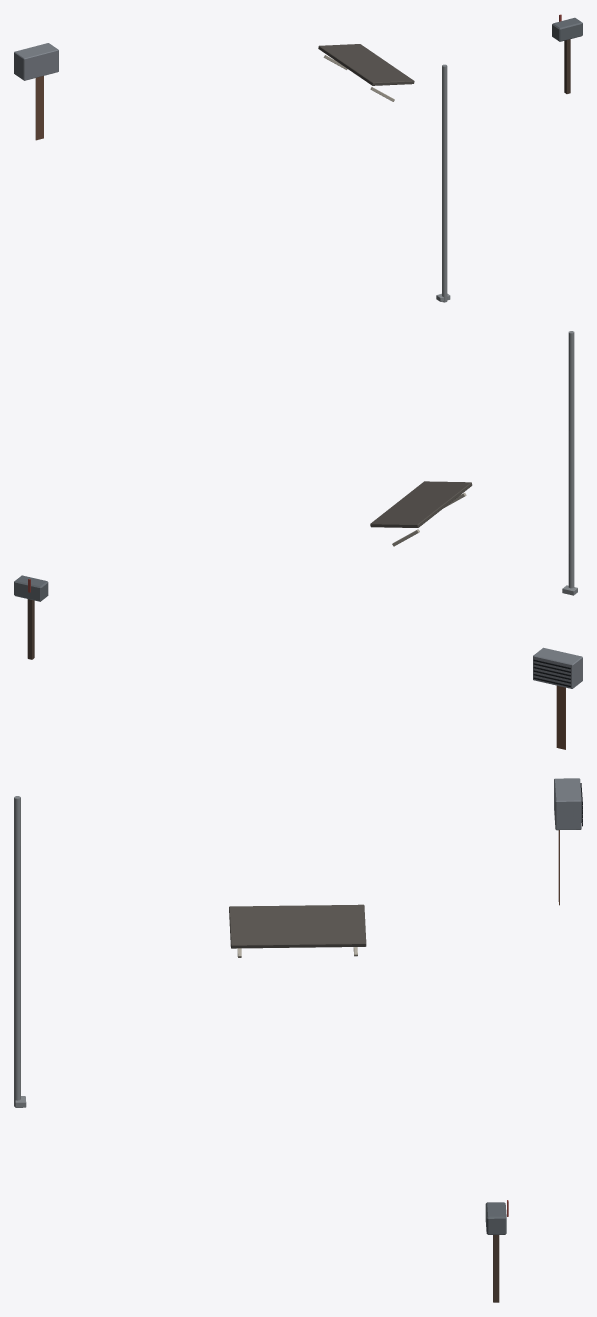
Rendered from house4_bits.glb.
3 renders of one model, top to bottom at view 1: azimuth 30°, elevation 25°; view 2: azimuth 150°, elevation 25°; view 3: azimuth 270°, elevation 25°, orthographic. The views are drawn at different scales.
Parts seen in each view (by area): view 1: house4_bits; view 2: house4_bits; view 3: house4_bits.
Part boxes in pixels (x1,y1,x2,y2): house4_bits: [14, 14, 582, 302]; house4_bits: [14, 331, 582, 749]; house4_bits: [14, 778, 582, 1302].
Bounding box in the file's own units: 10.43 × 4.4 × 7.35.
